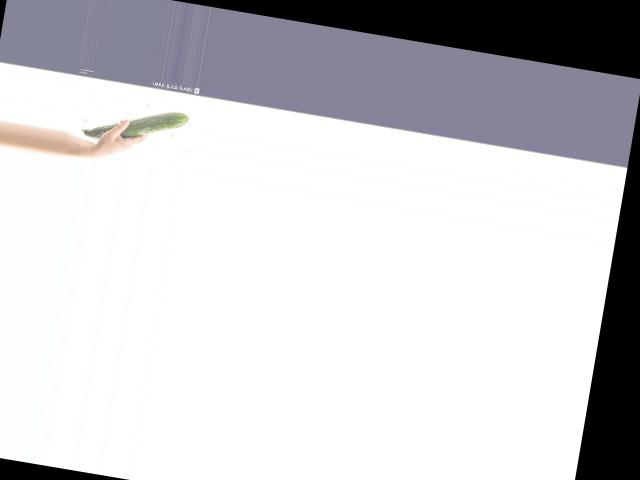cucumber: (79, 96, 189, 153)
